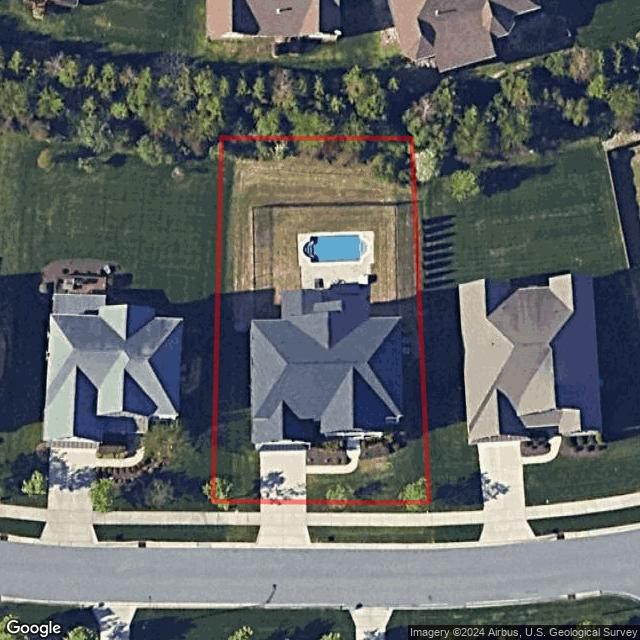Driveway: (261, 445, 305, 503)
Extra-Driveway: (252, 501, 318, 550)
Extra-Lawn: (307, 527, 433, 544), (306, 501, 430, 512), (211, 526, 261, 543), (212, 500, 260, 512)
Extra-Sidewalk: (307, 512, 432, 527), (210, 512, 261, 526)
House: (249, 288, 401, 446)
Lawn: (212, 137, 429, 503)
Other: (299, 230, 378, 289), (358, 434, 407, 461), (305, 437, 349, 466)
Sidewalk: (307, 438, 360, 474)
